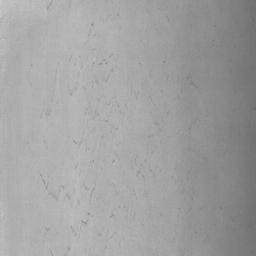Silk spot: (135, 158, 145, 181), (186, 73, 198, 88), (83, 184, 95, 198), (40, 174, 48, 190), (48, 192, 58, 200)
